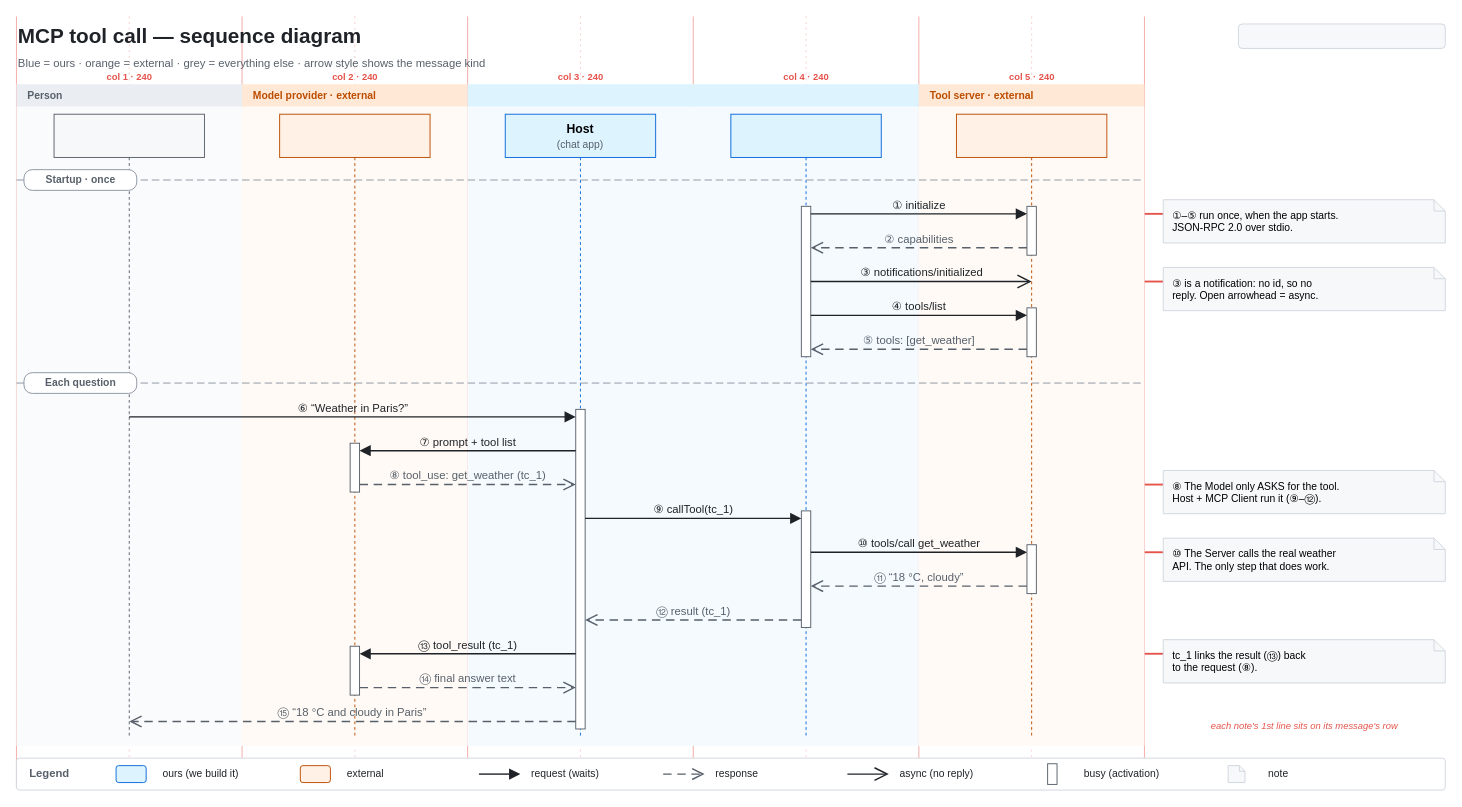
This 1462x807 diagram has some shape labels left out. The box of each missing label's shape, as (x1, y1, x2, y2) in pixels:
AI app · ours: (467, 84, 918, 745)
MCP Client (in Host): (730, 113, 881, 736)
MCP Server (weather tools): (956, 113, 1107, 736)
Model (LLM, cloud): (279, 113, 430, 736)
User (person): (53, 113, 204, 736)
v1.1 · styled · 2026-11-13: (1238, 23, 1445, 48)
